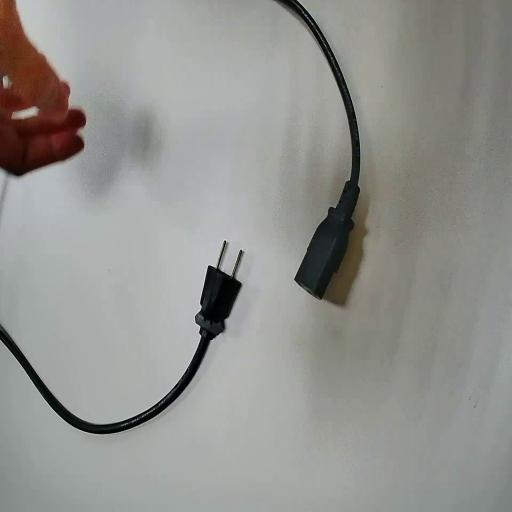wire: (0, 267, 240, 433), (279, 0, 359, 298)
